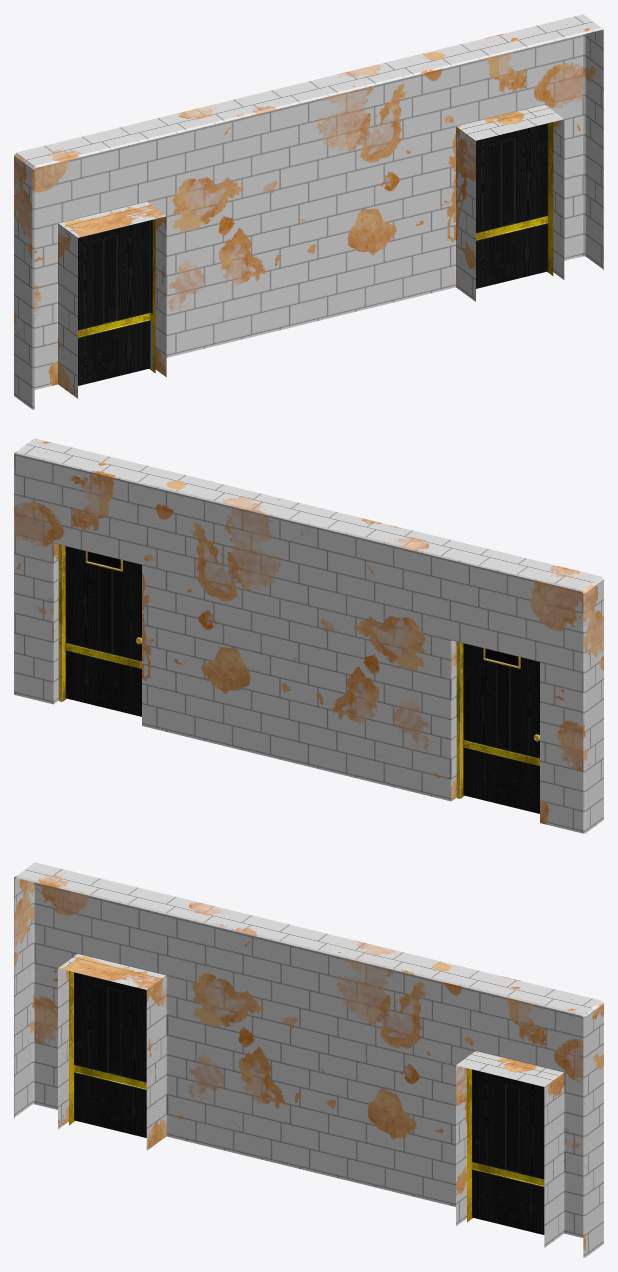
The model's file is 2DoorWall.fbx.
The picture shows the model from 3 angles, top to bottom: view 1: azimuth 30°, elevation 25°; view 2: azimuth 150°, elevation 25°; view 3: azimuth 330°, elevation 25°; orthographic projection.
Parts seen in each view (by area): view 1: 2 Door Wall, Door, Door.001, DoorFrame.001, DoorFrame; view 2: 2 Door Wall, Door, Door.001, DoorFrame, DoorFrame.001; view 3: 2 Door Wall, Door.001, Door, DoorFrame, DoorFrame.001.
Part boxes in pixels (x1,y1,x2,y2): 2 Door Wall: (14, 14, 603, 409); Door: (78, 220, 152, 385); Door.001: (476, 123, 548, 288); DoorFrame.001: (461, 108, 553, 275); DoorFrame: (64, 205, 155, 373); 2 Door Wall: (14, 438, 603, 833); Door: (463, 643, 539, 813); Door.001: (65, 546, 141, 716); DoorFrame: (456, 641, 520, 798); DoorFrame.001: (58, 544, 122, 701); 2 Door Wall: (14, 862, 603, 1257); Door.001: (471, 1069, 544, 1234); Door: (74, 972, 146, 1137); DoorFrame: (69, 957, 160, 1125); DoorFrame.001: (467, 1054, 558, 1222).
Bounding box in the file's own units: 8.24 × 0.4985 × 3.35.
